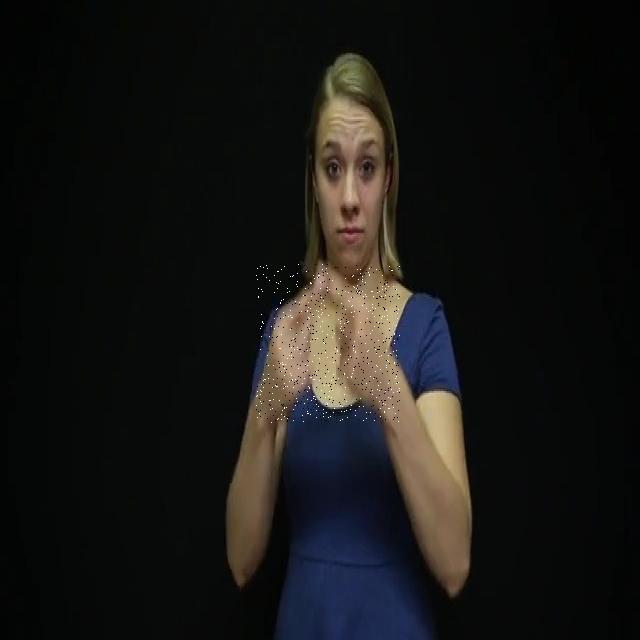allergy: (256, 264, 400, 423)
